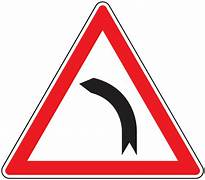left: (1, 1, 205, 180)
